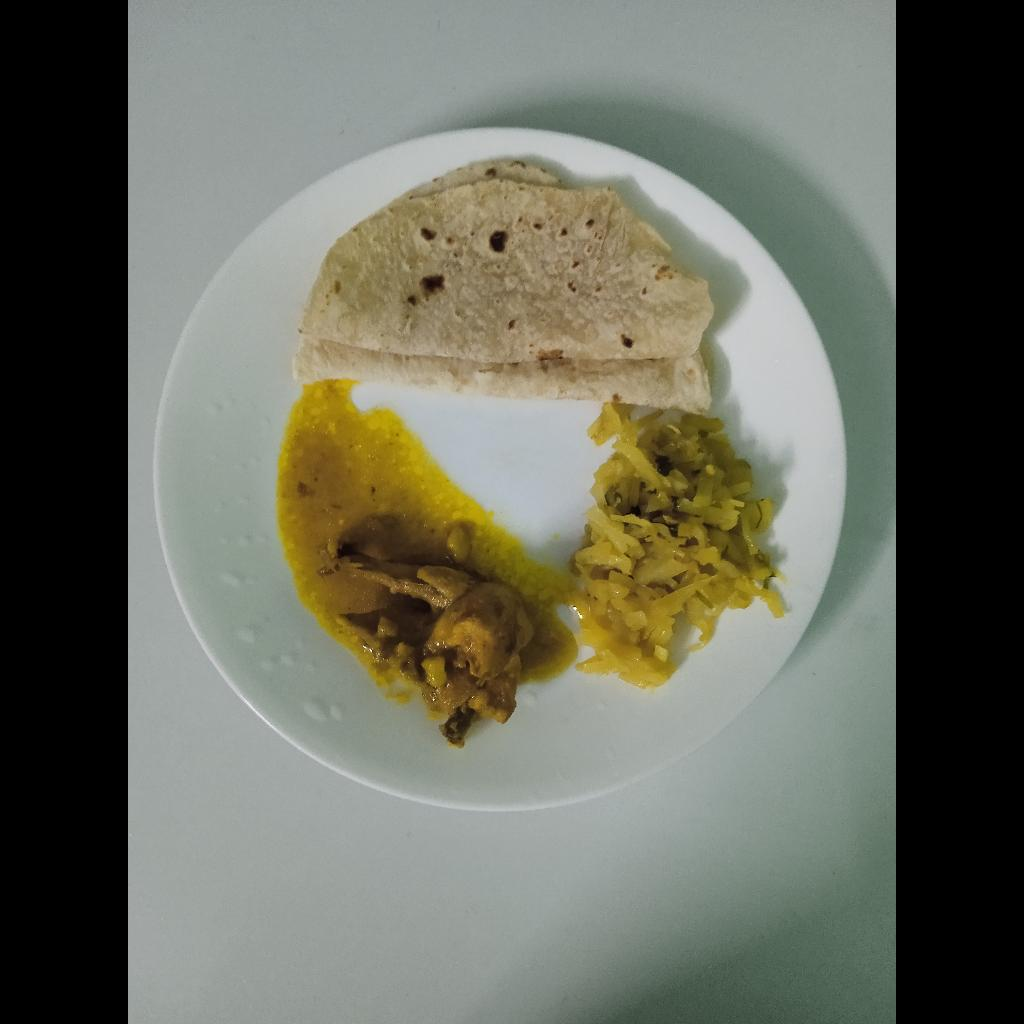cabbage: (578, 412, 787, 674)
chicken: (330, 543, 524, 738)
ruti: (294, 161, 716, 414)
